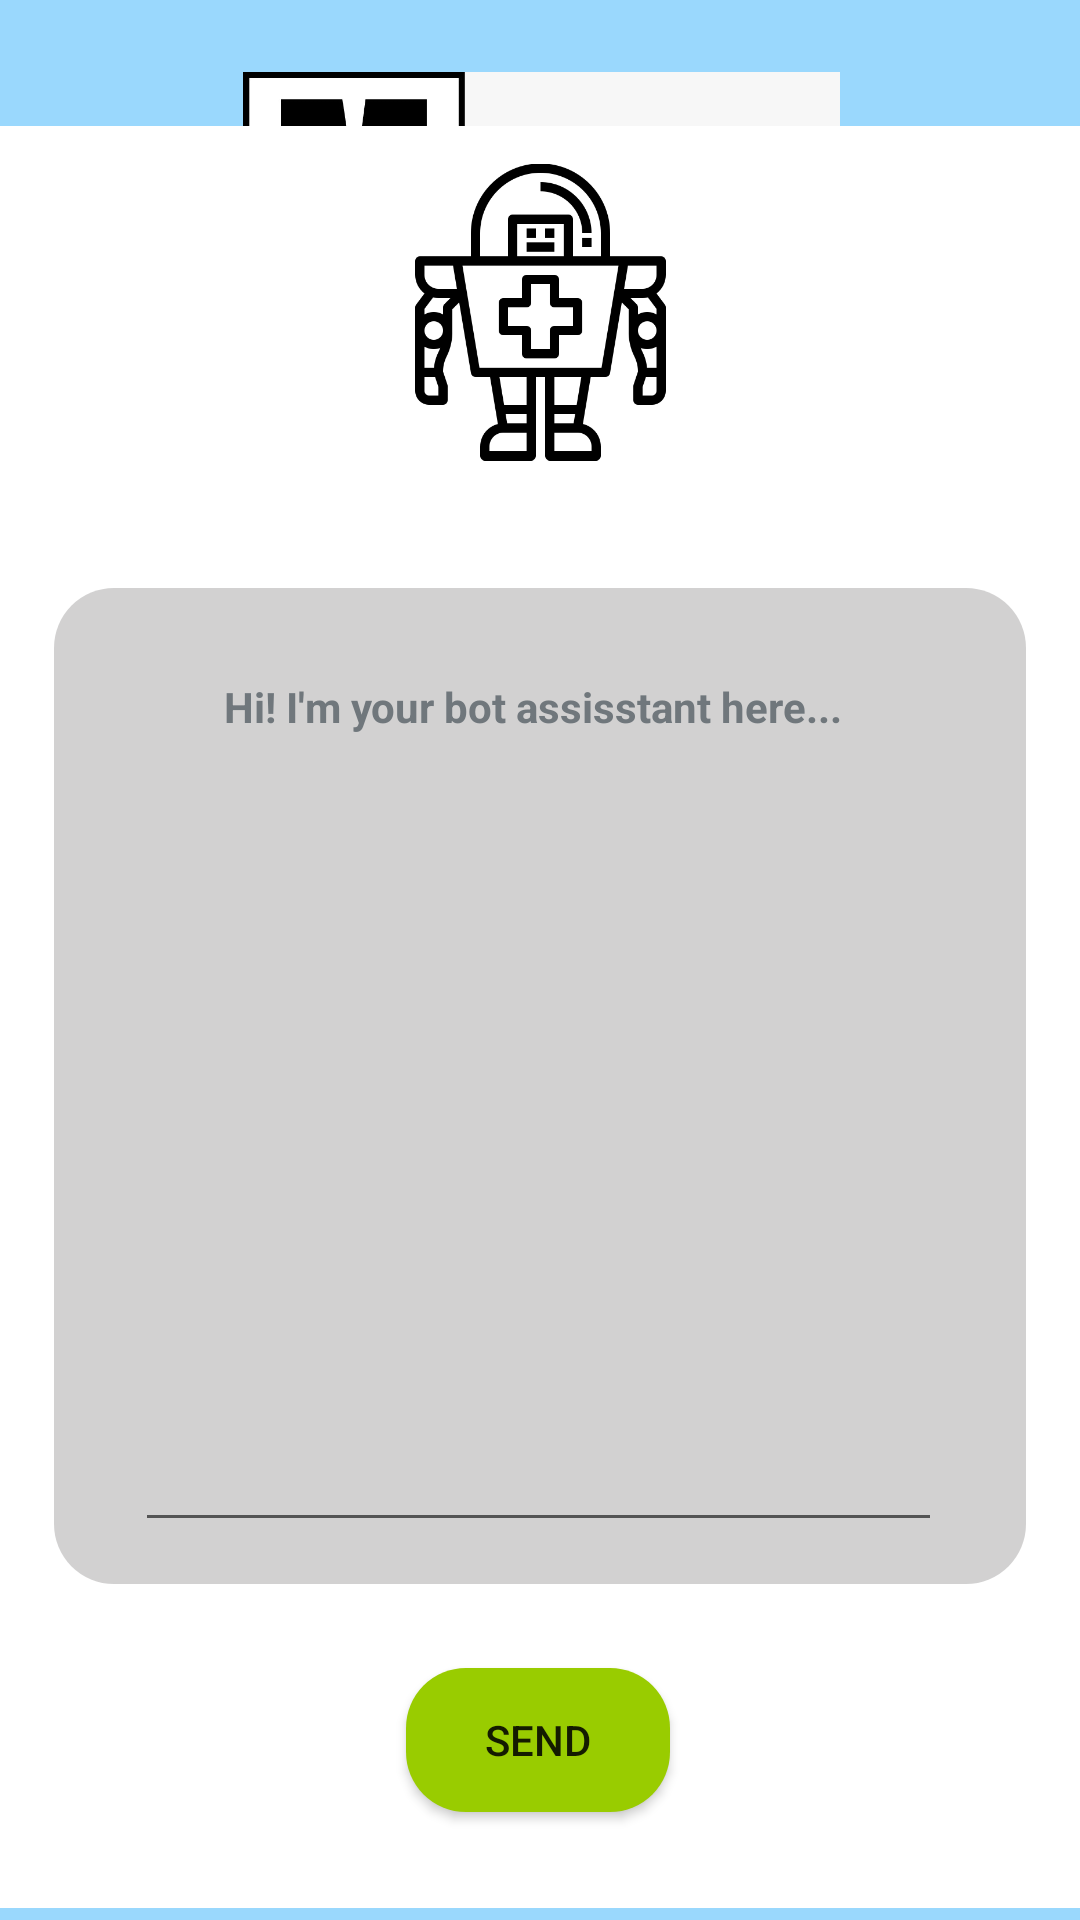

Screen size 1080×1920. Icon name, then its box in pixels as (x1, y1, x2, y2):
bot: (415, 164, 666, 461)
